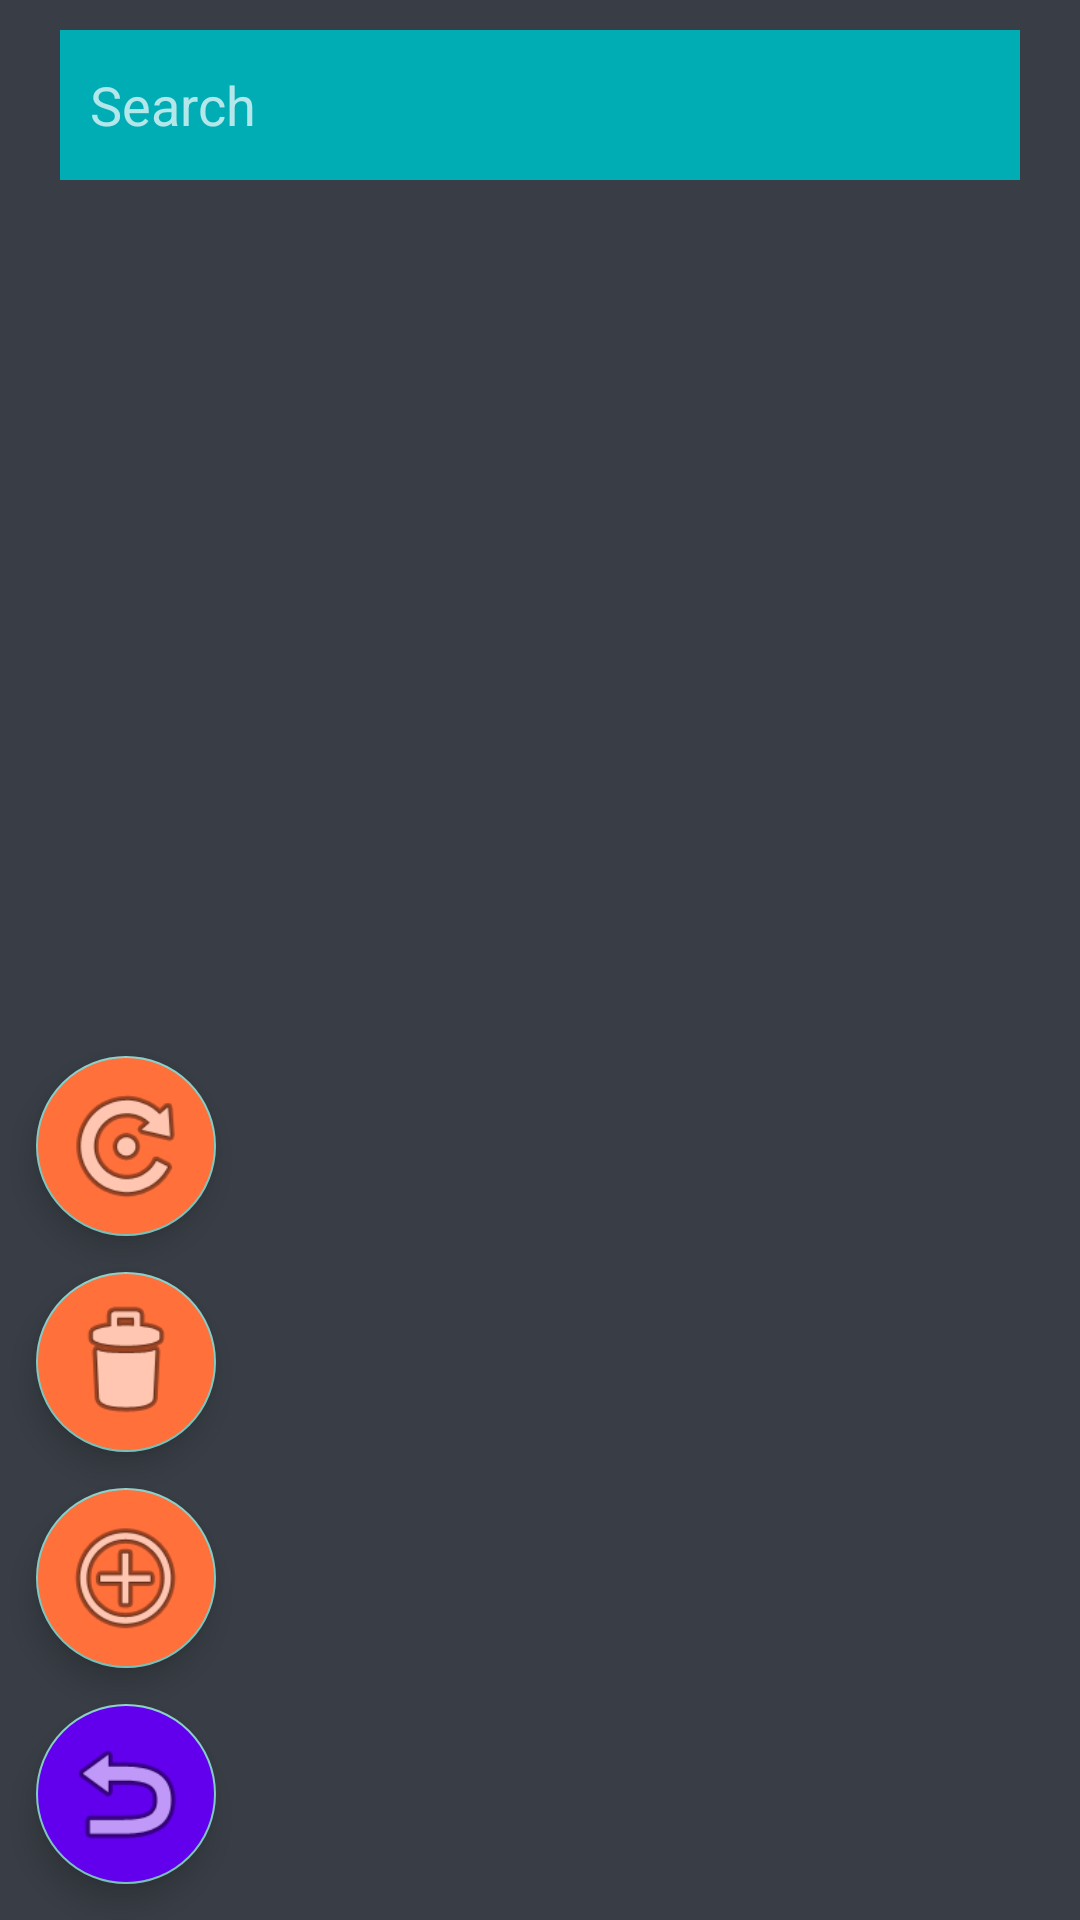

Icon bounding boxes for this 1080*1920 phone screenshot, format (x1, y1, x2, y2):
add: (36, 1488, 216, 1668)
delete: (36, 1272, 216, 1452)
revert: (36, 1704, 216, 1884)
rotate: (36, 1056, 216, 1236)
